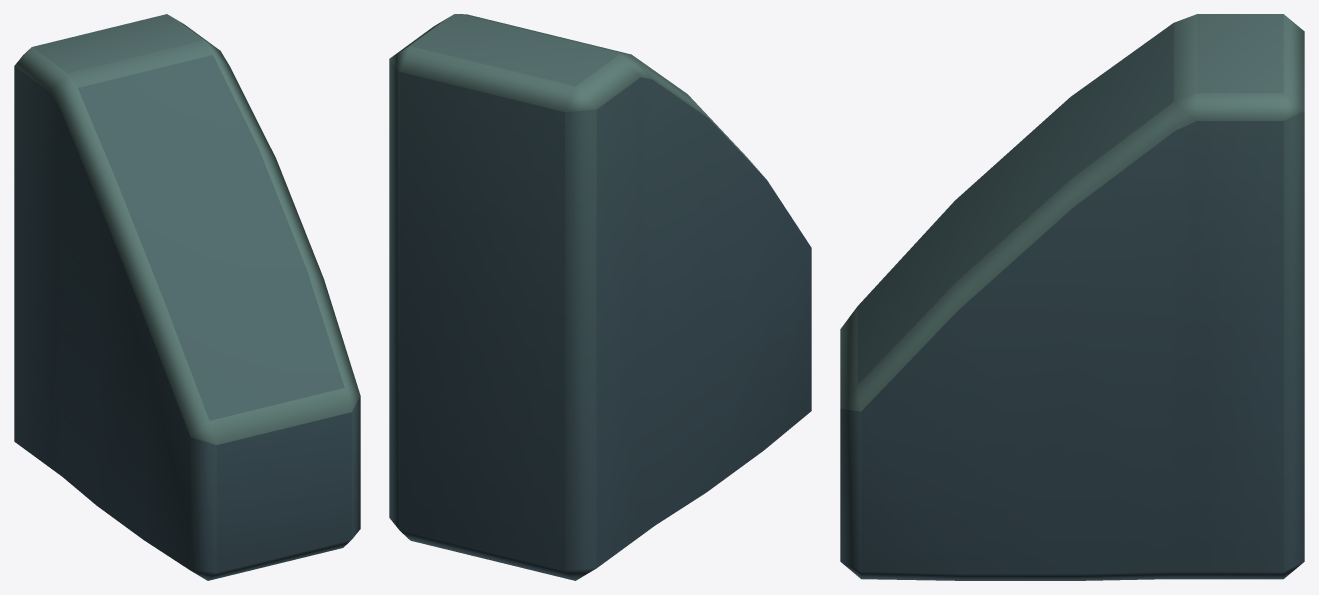
File: stair_sidewall_shade_3_LOD_setup.fbx
3 renders of one model, left to right at view 1: azimuth 30°, elevation 25°; view 2: azimuth 150°, elevation 25°; view 3: azimuth 270°, elevation 25°, orthographic. The views are drawn at different scales.
Visible parts, largest first — view 1: stair_sidewall_shade_3_LOD0; view 2: stair_sidewall_shade_3_LOD0; view 3: stair_sidewall_shade_3_LOD0.
Boxes of the visible parts, <box> form: stair_sidewall_shade_3_LOD0: <box>14,14,360,580</box>; stair_sidewall_shade_3_LOD0: <box>389,14,811,580</box>; stair_sidewall_shade_3_LOD0: <box>840,14,1304,580</box>.
Size of what is drawn, in the model's own units: 55.52 by 121 by 105.
